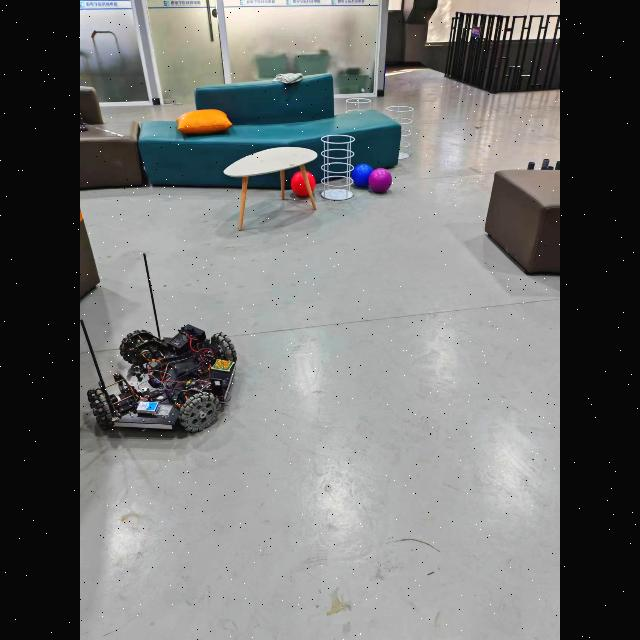B: (351, 164, 372, 188)
P: (369, 168, 392, 192)
R: (290, 170, 318, 198)
S: (321, 135, 355, 200)
